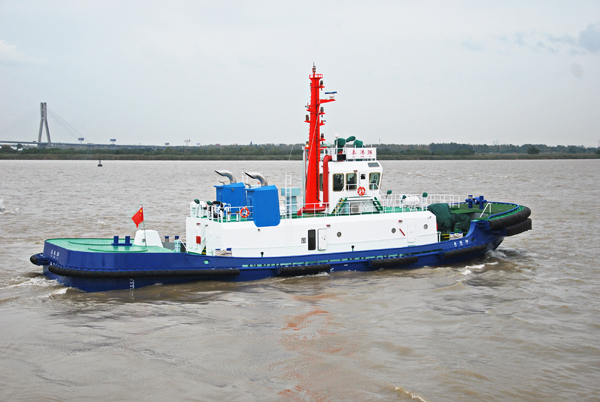otherboat: (25, 99, 535, 288)
